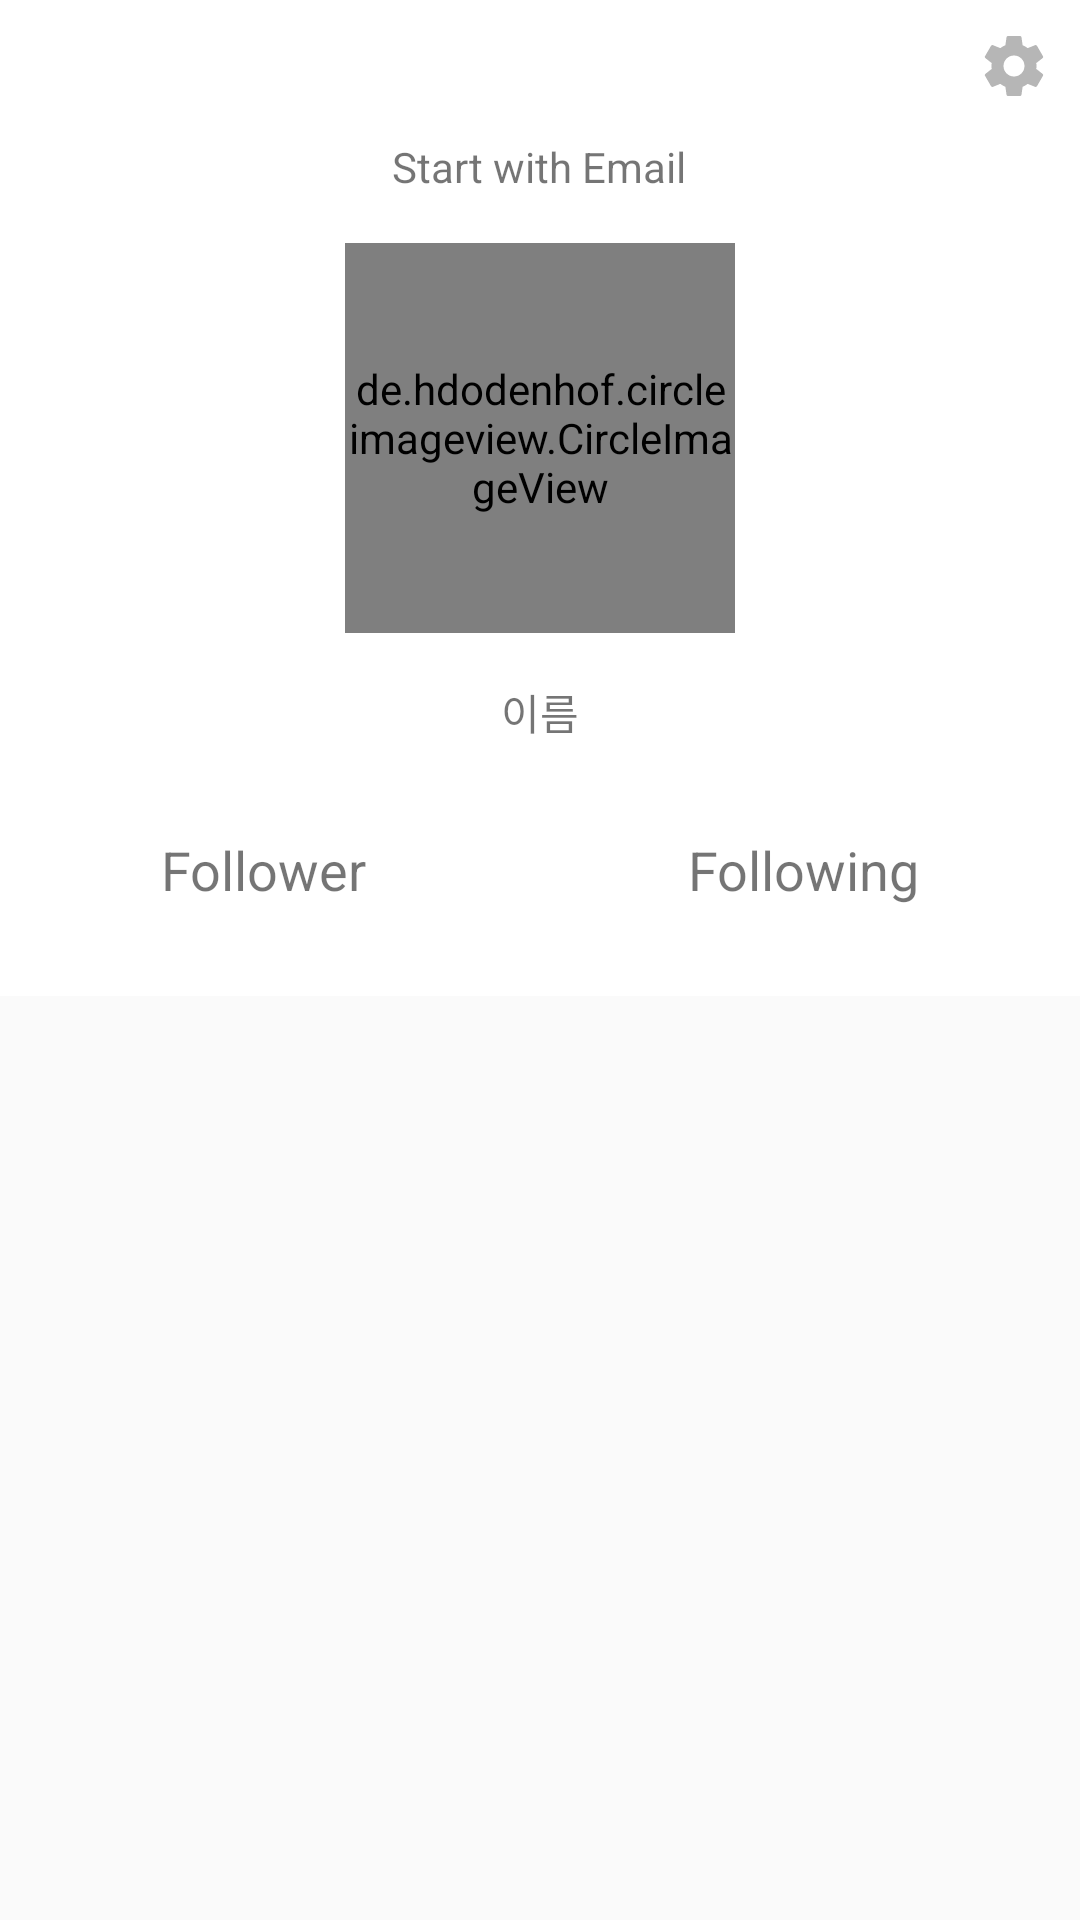

Locate icon controls on the screen. Image size 1080*1920, boxes as (x1, y1, x2, y2).
settings: (985, 36, 1043, 96)
